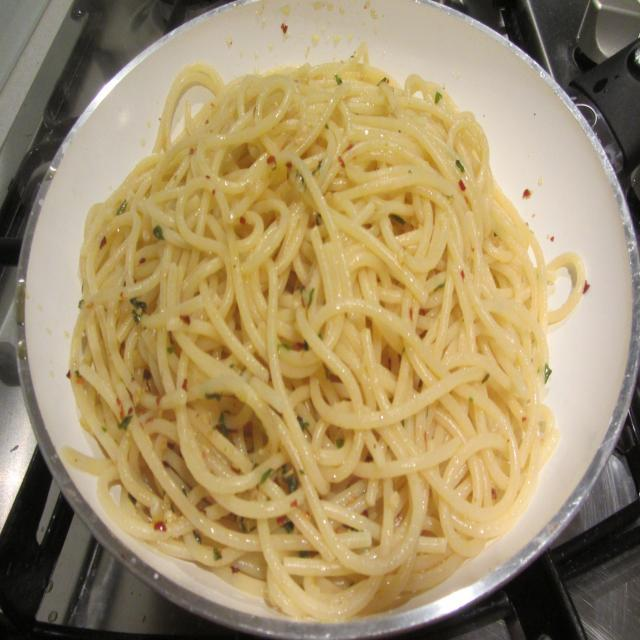Oil pasta: (73, 47, 619, 633)
